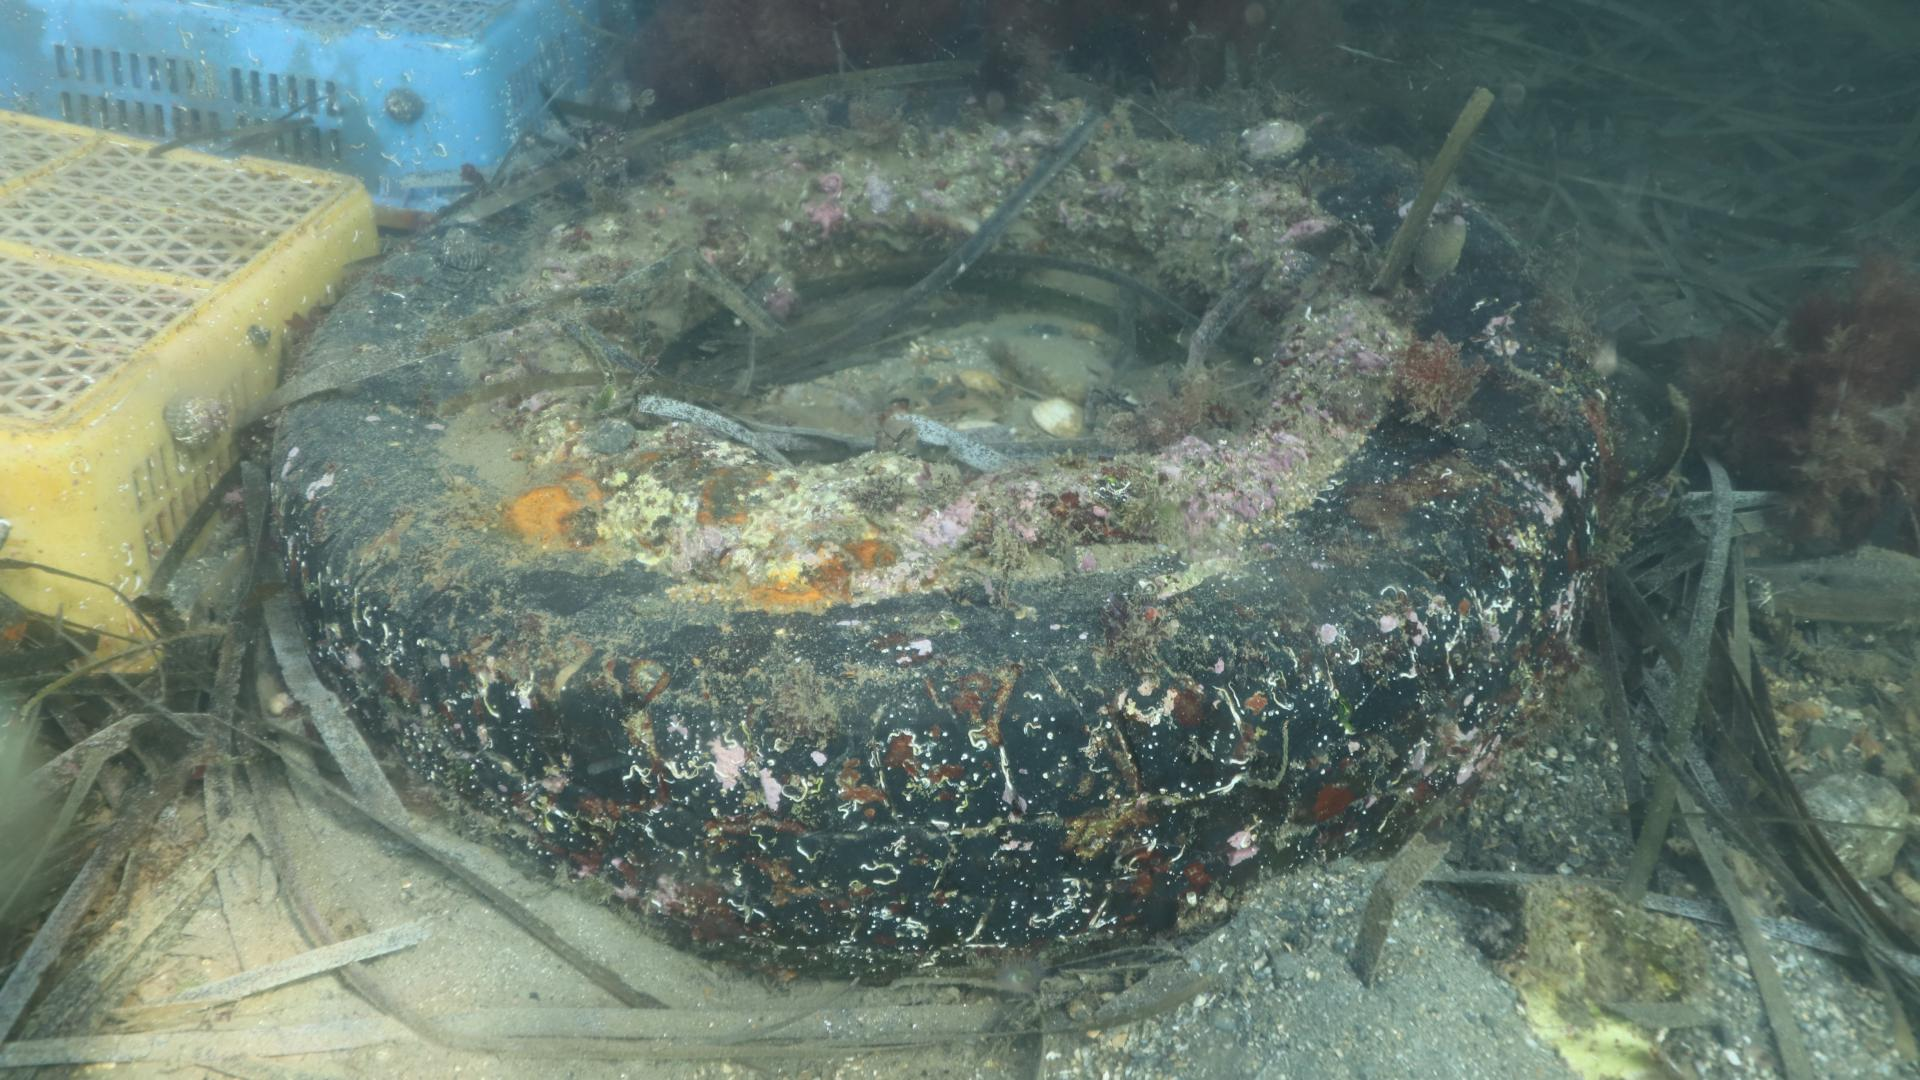tire: (268, 59, 1605, 976)
